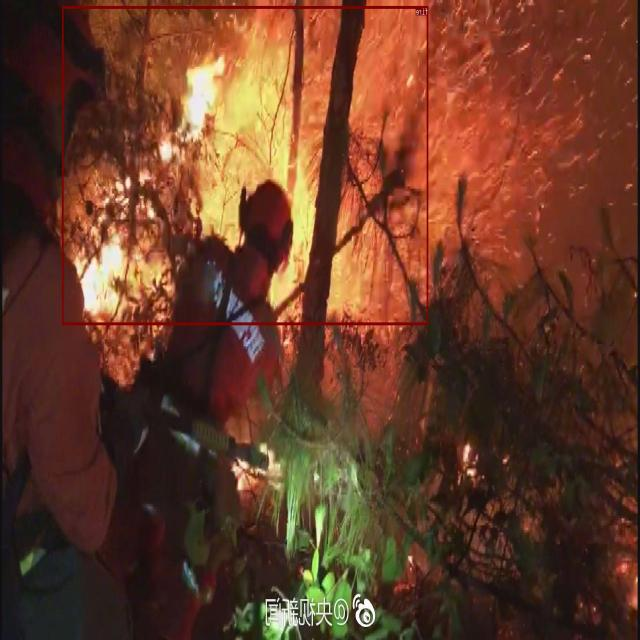fire: (62, 6, 428, 324)
